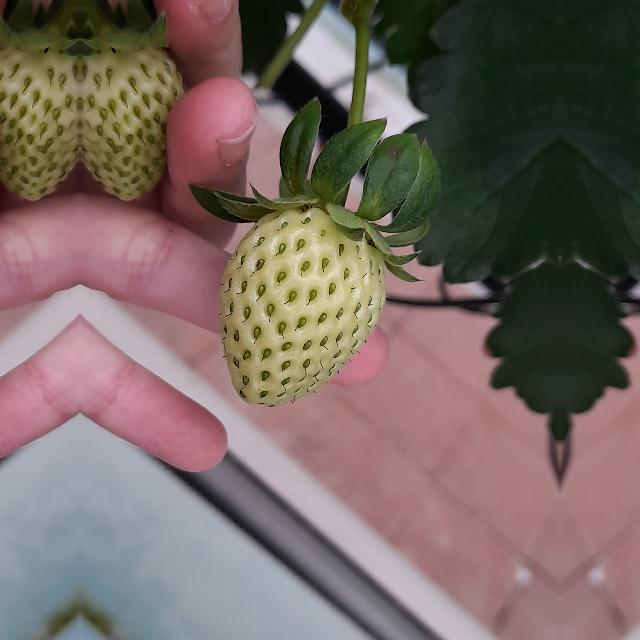Health_25: (218, 207, 386, 407), (80, 29, 188, 203), (0, 29, 80, 203)
